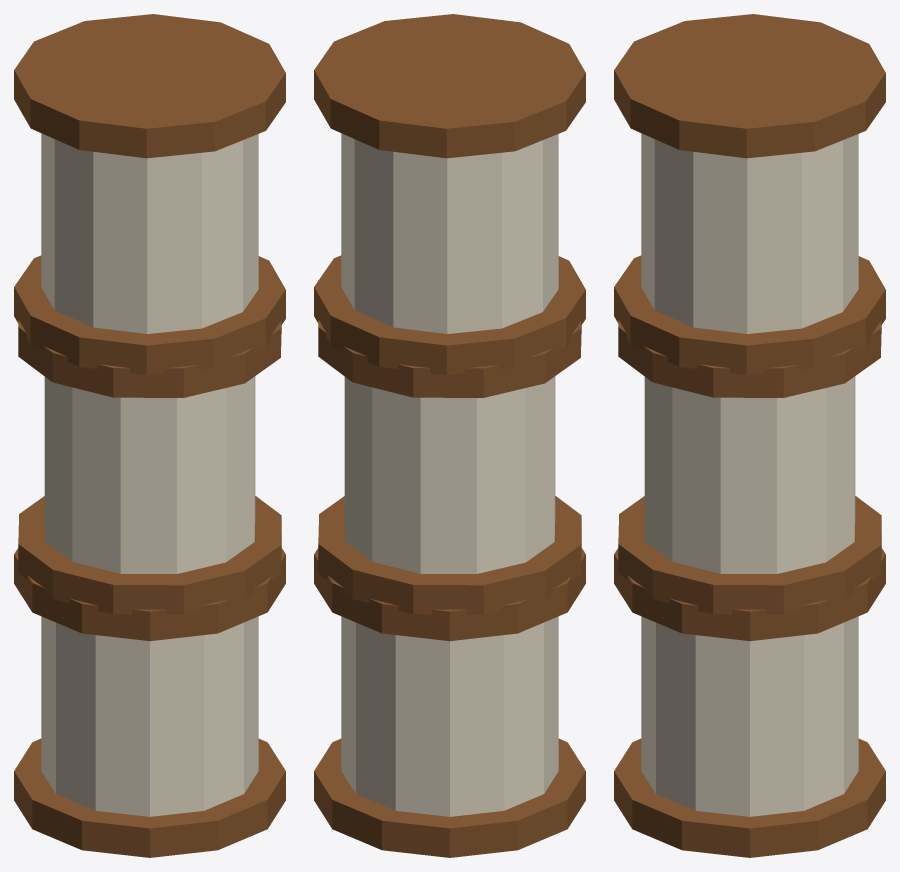
Rendered from Fiber_RanchYarn.fbx.
The picture shows the model from 3 angles, left to right: view 1: azimuth 30°, elevation 25°; view 2: azimuth 150°, elevation 25°; view 3: azimuth 270°, elevation 25°; orthographic projection.
Parts seen in each view (by area): view 1: Fiber_RanchYarn__Stack, Fiber_RanchYarn; view 2: Fiber_RanchYarn__Stack, Fiber_RanchYarn; view 3: Fiber_RanchYarn__Stack, Fiber_RanchYarn.
Boxes of the visible parts, x1=… form: Fiber_RanchYarn__Stack: x1=14, y1=14, x2=285, y2=614; Fiber_RanchYarn: x1=14, y1=547, x2=285, y2=857; Fiber_RanchYarn__Stack: x1=314, y1=14, x2=585, y2=614; Fiber_RanchYarn: x1=314, y1=547, x2=585, y2=857; Fiber_RanchYarn__Stack: x1=614, y1=14, x2=885, y2=614; Fiber_RanchYarn: x1=614, y1=547, x2=885, y2=857.
Bounding box in the file's own units: 0.05 × 0.148 × 0.05.
